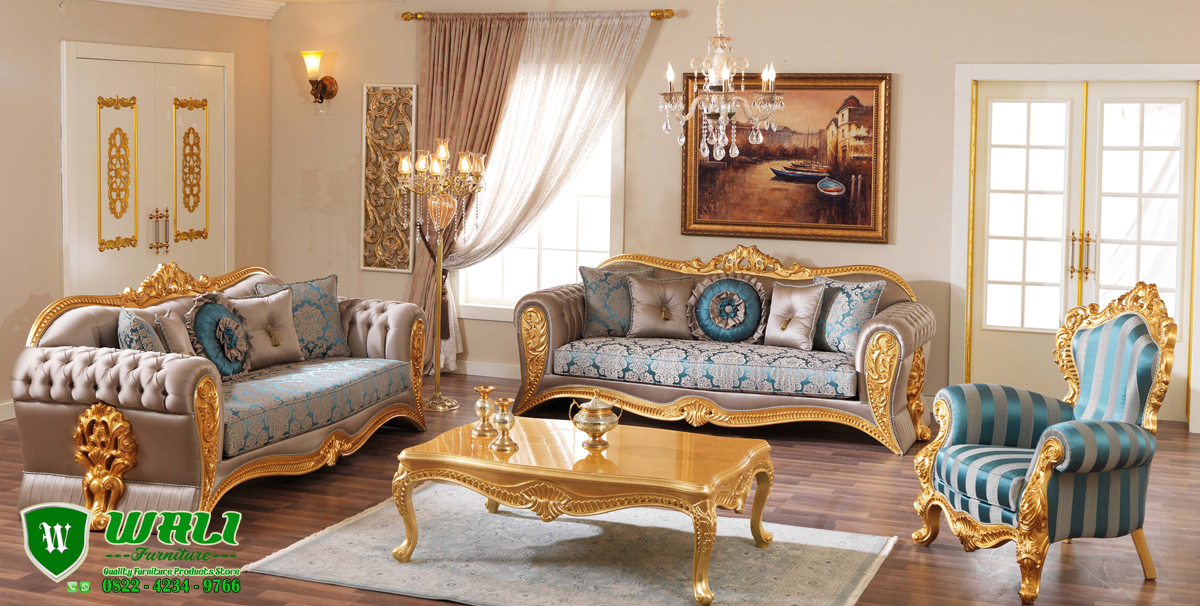Carving Chair: (33, 261, 427, 517), (527, 243, 927, 455), (908, 282, 1183, 584)
Carving Table: (389, 411, 775, 591)
